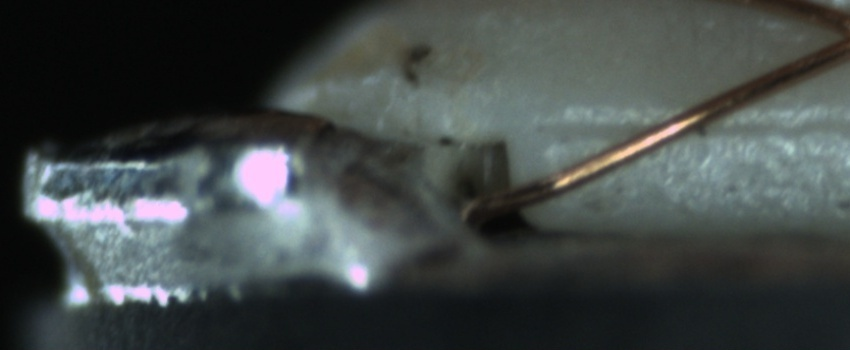DL: (544, 99, 849, 155)
